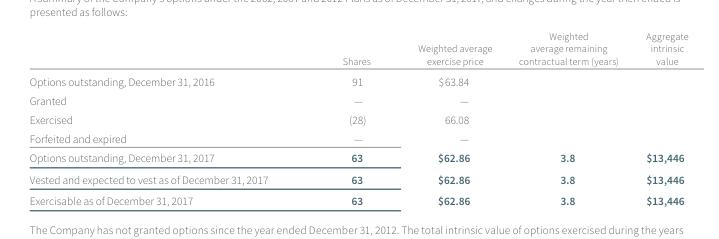table: (28, 29, 687, 208)
table column: (28, 29, 304, 208), (504, 29, 631, 208), (393, 29, 504, 208), (304, 29, 393, 208), (631, 29, 687, 208)
table column header: (28, 29, 687, 70)
table row: (28, 29, 687, 70), (28, 70, 687, 91), (28, 147, 687, 168), (28, 168, 687, 189), (28, 91, 687, 110), (28, 128, 687, 147), (28, 189, 687, 208), (28, 110, 687, 128)
